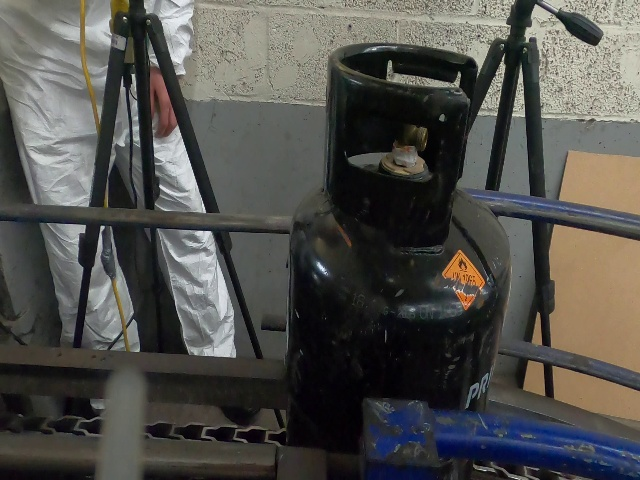gas_bottle: (7, 3, 640, 480)
